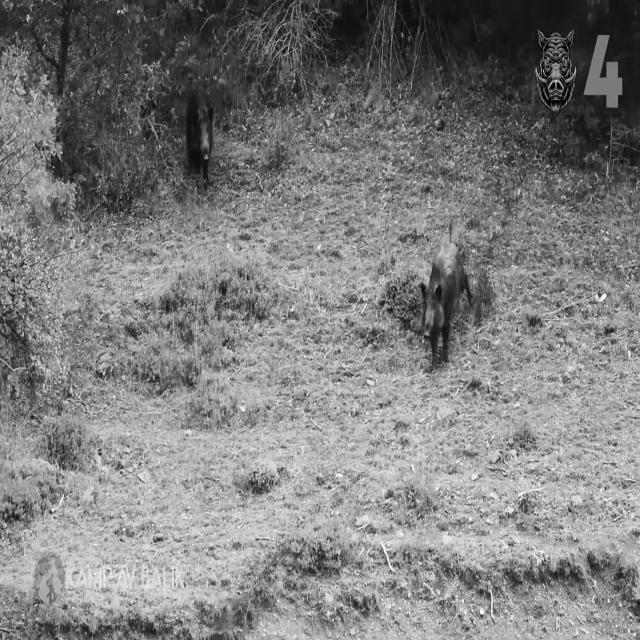boar: (421, 242, 472, 369), (185, 85, 213, 188)
